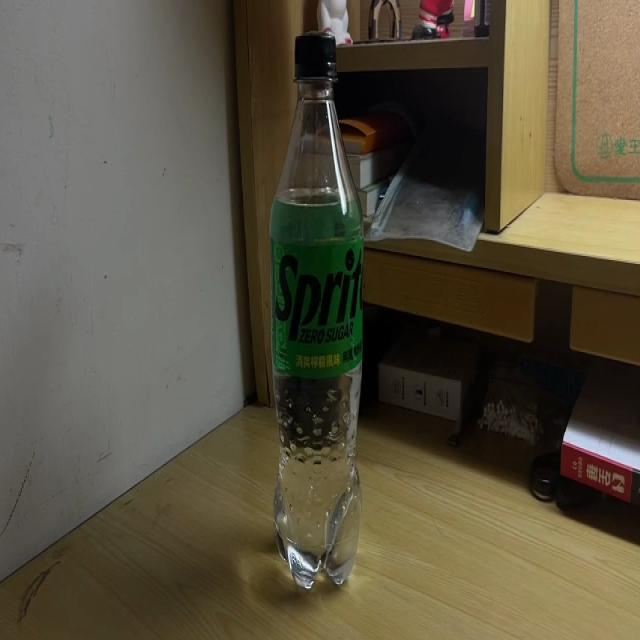Sprite: (269, 36, 363, 590)
